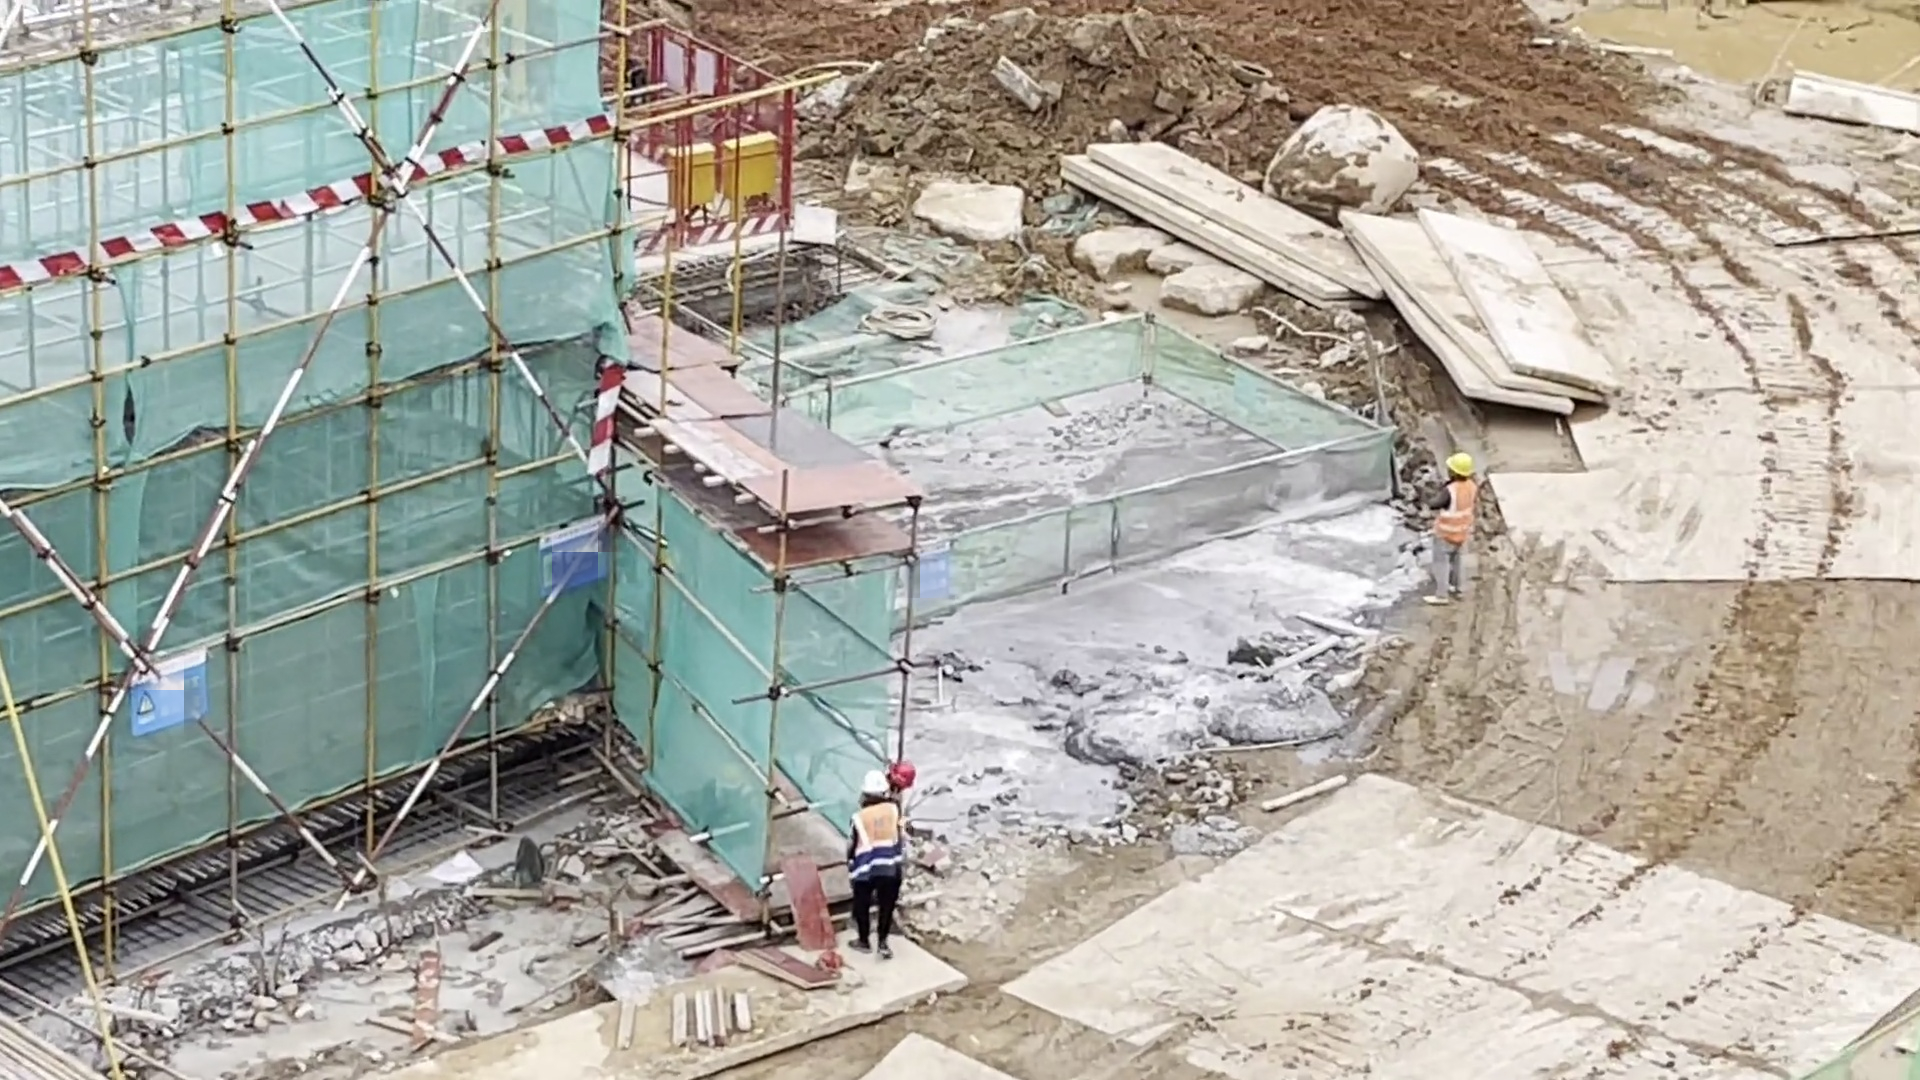ebox: (659, 130, 779, 216)
helmet: (859, 775, 888, 800), (1445, 454, 1475, 477), (890, 766, 913, 788)
person: (849, 763, 899, 949), (1426, 450, 1481, 610), (886, 763, 919, 824)
vest: (856, 811, 899, 876), (1440, 483, 1471, 552)
